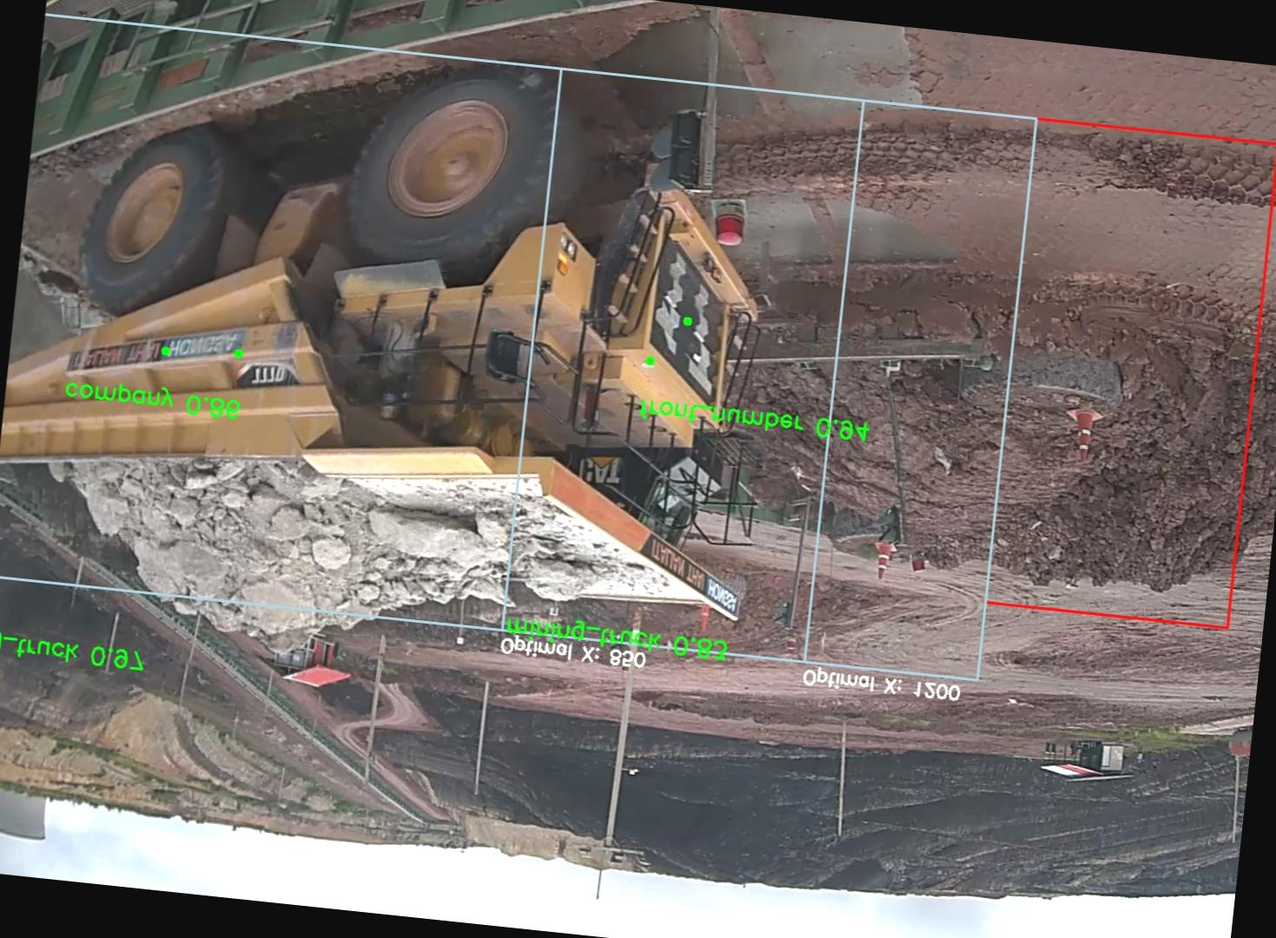company: (56, 305, 241, 393)
full_load: (132, 428, 439, 665)
mining_truck: (0, 11, 809, 712)
truck_size: (232, 353, 294, 403)
